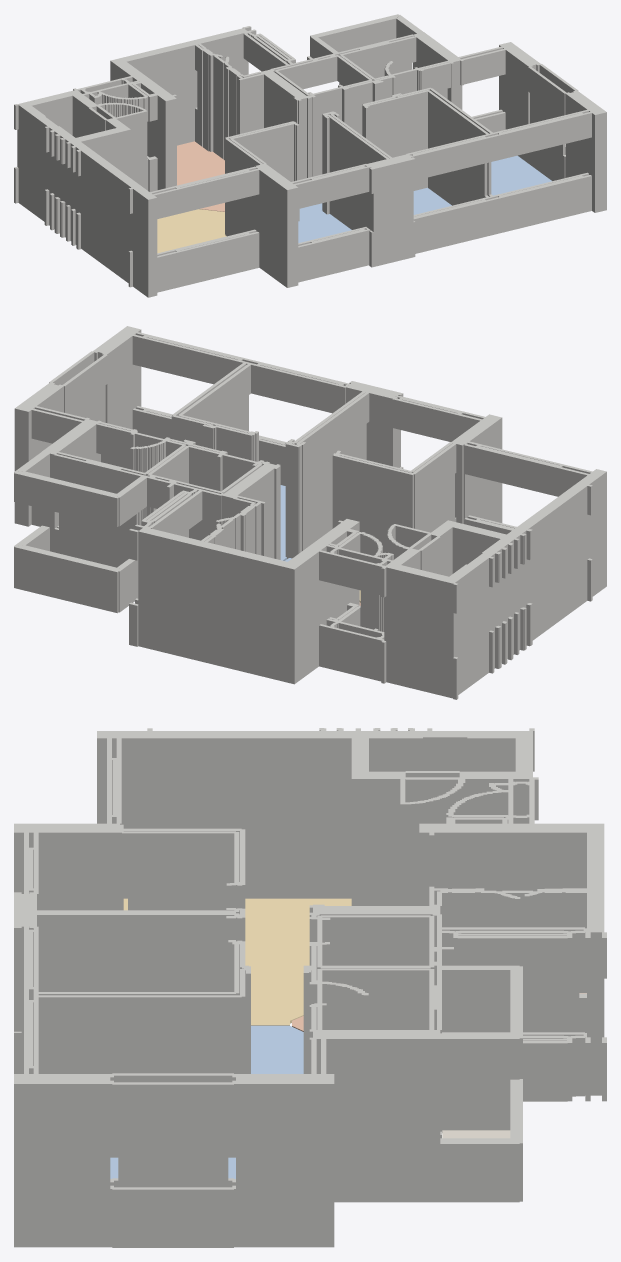
3 renders of one model, top to bottom at view 1: azimuth 30°, elevation 25°; view 2: azimuth 150°, elevation 25°; view 3: azimuth 270°, elevation 25°, orthographic. The views are drawn at different scales.
Visible parts, largest first — view 1: walls, room:living:8, room:kitchen:0, room:bedroom:11, room:bedroom:9, room:bedroom:10; view 2: walls; view 3: walls, room:living:8, room:bedroom:9.
Boxes of the visible parts, x1=… form: walls: x1=14, y1=14, x2=606, y2=297; room:living:8: x1=157, y1=209, x2=226, y2=253; room:kitchen:0: x1=177, y1=141, x2=224, y2=211; room:bedroom:11: x1=491, y1=155, x2=551, y2=195; room:bedroom:9: x1=298, y1=203, x2=351, y2=242; room:bedroom:10: x1=413, y1=187, x2=451, y2=214; walls: x1=14, y1=326, x2=606, y2=699; walls: x1=14, y1=728, x2=606, y2=1247; room:living:8: x1=123, y1=898, x2=351, y2=1025; room:bedroom:9: x1=251, y1=1025, x2=303, y2=1073.
Size of the model in its own units: 13.1 by 2.8 by 9.21.
